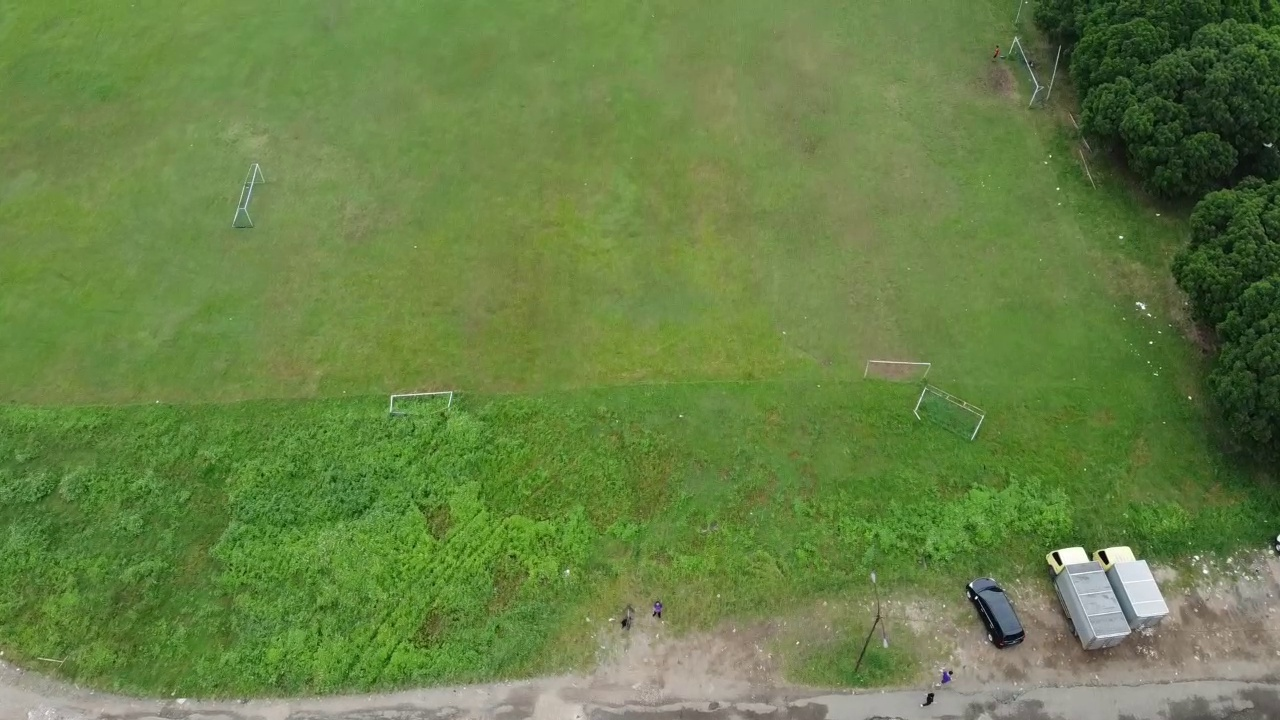mobil: (960, 571, 1035, 658)
